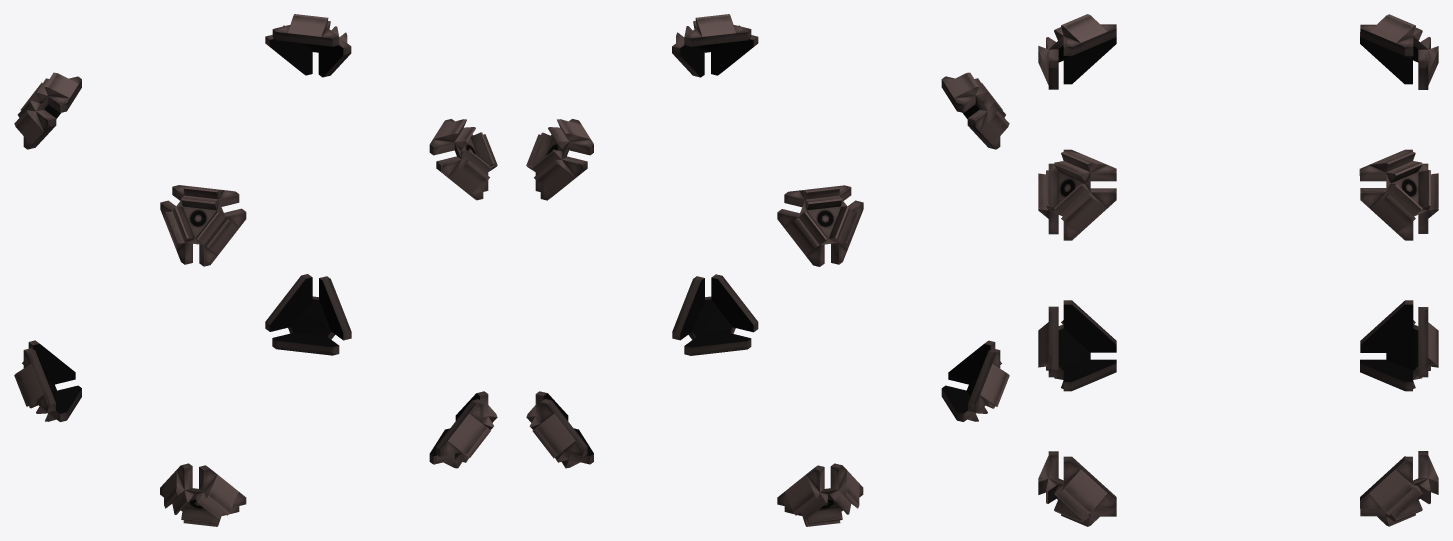
The model's file is Contraption_Cube_Friction2.obj.
The picture shows the model from 3 angles, left to right: view 1: azimuth 30°, elevation 25°; view 2: azimuth 150°, elevation 25°; view 3: azimuth 270°, elevation 25°; orthographic projection. The views are drawn at different scales.
Parts seen in each view (by area): view 1: g0; view 2: g0; view 3: g0.
Boxes of the visible parts, x1,y1,x2,y2 form: g0: (14, 14, 497, 526); g0: (526, 14, 1009, 526); g0: (1038, 14, 1438, 526).
Bounding box in the file's own units: 39.6 × 39.6 × 39.57.
1 material, 1 textured.
